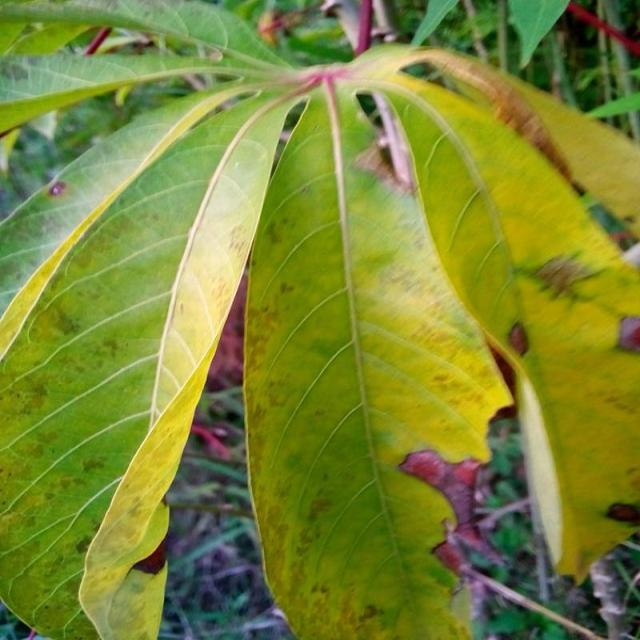cassava leaf: (2, 8, 639, 638), (2, 72, 310, 638), (242, 70, 516, 638), (358, 66, 640, 586)
